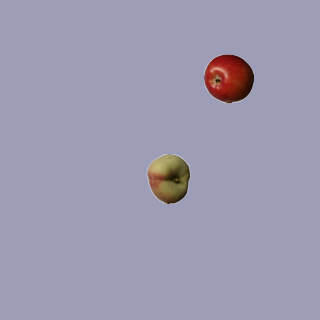Apple Braeburn: (203, 53, 253, 103)
Peach Flat: (143, 153, 193, 203)
